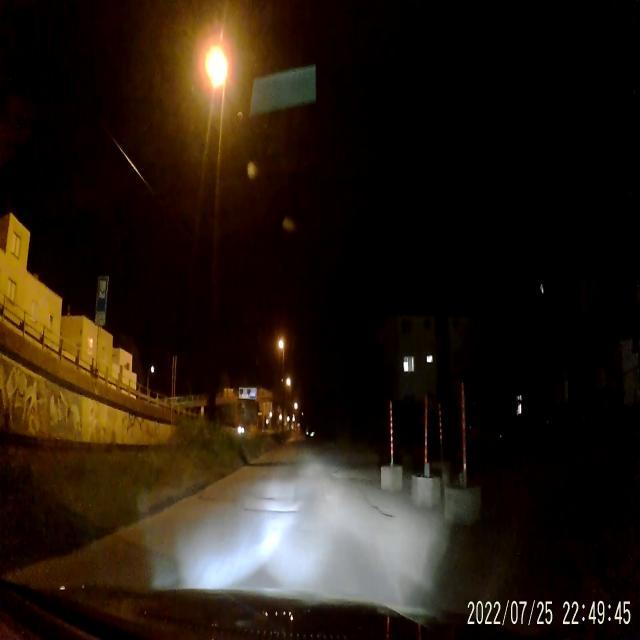Pothole: (236, 480, 307, 521)
